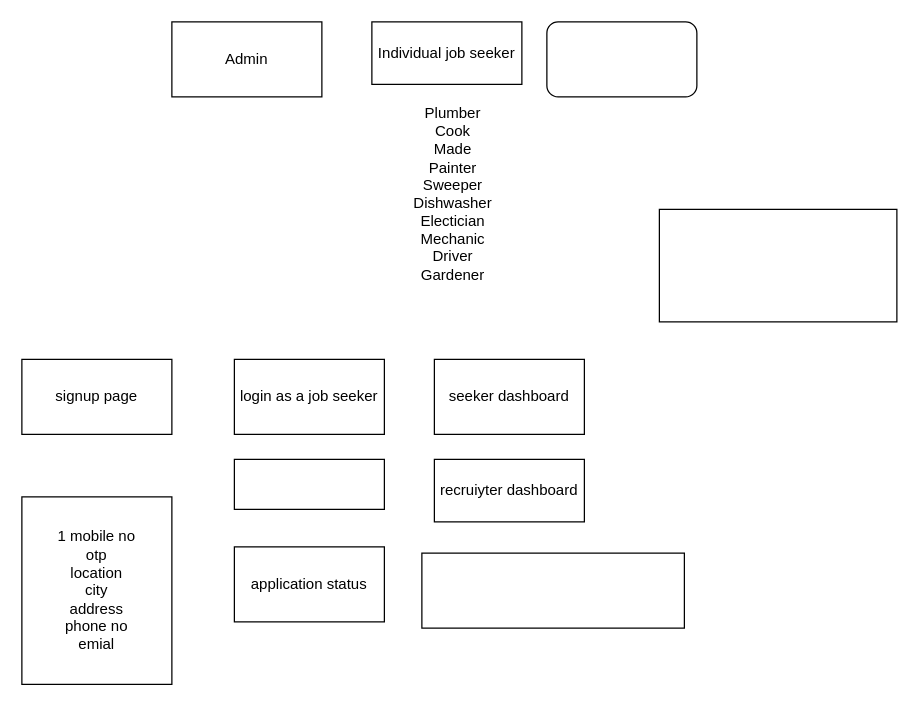
Image size: 919x706. Some labels were removed from this diagram. Each missing label, with the box of its shape:
chat system between job seeker and recruiyer just like naurkri.com or linkdin: (421, 552, 684, 628)
login as recruiter: (233, 458, 384, 509)
Recruiter: (546, 21, 697, 97)
should show job nearby locatin search by locaton,: (658, 208, 897, 322)
